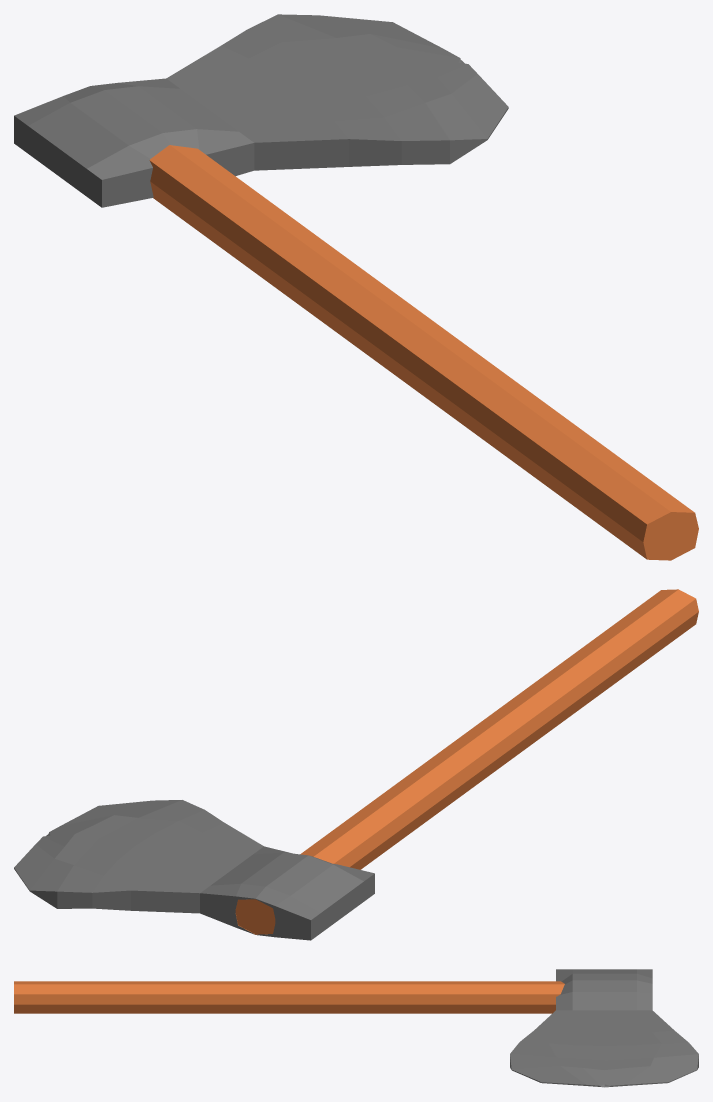
Rendered from sekira.fbx.
3 renders of one model, top to bottom at view 1: azimuth 30°, elevation 25°; view 2: azimuth 150°, elevation 25°; view 3: azimuth 270°, elevation 25°, orthographic. The views are drawn at different scales.
Visible parts, largest first — view 1: Plane; view 2: Plane; view 3: Plane.
Part boxes in pixels (x1,y1,x2,y2): Plane: [14, 14, 698, 560]; Plane: [14, 589, 698, 940]; Plane: [14, 969, 698, 1087].
Bounding box in the file's own units: 536 × 78.23 × 1418.
